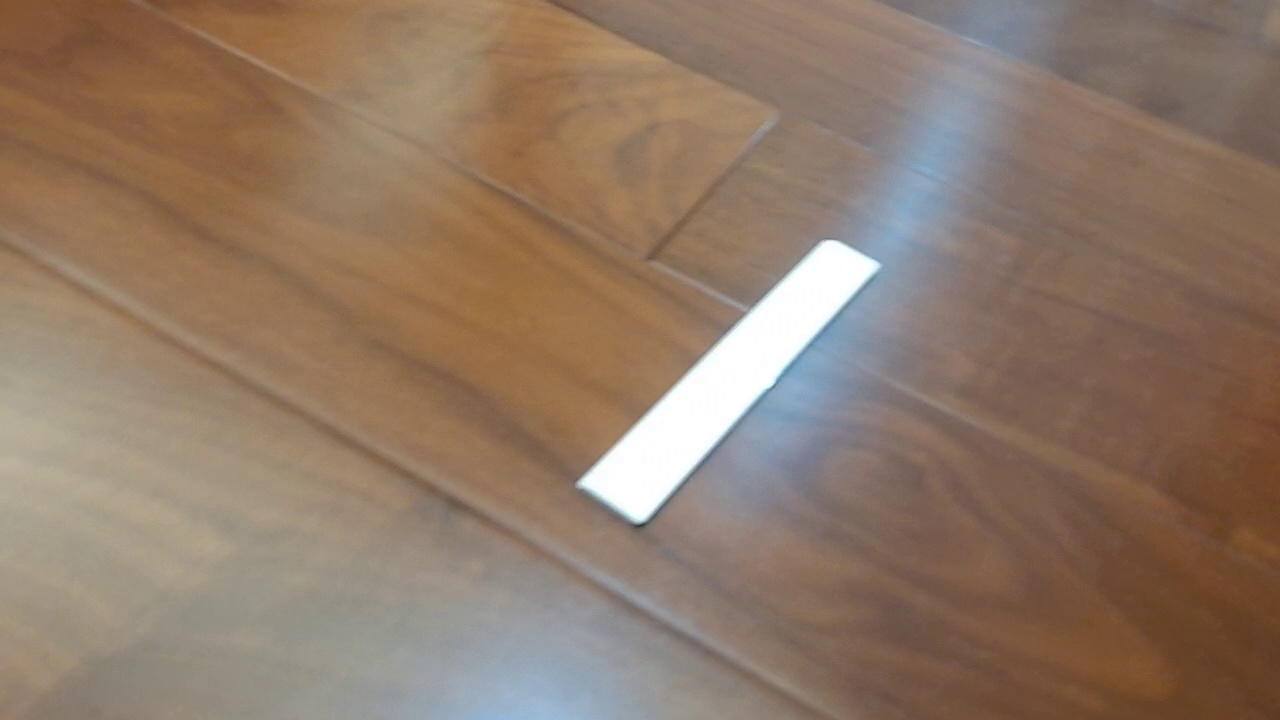ruler: (573, 235, 885, 530)
